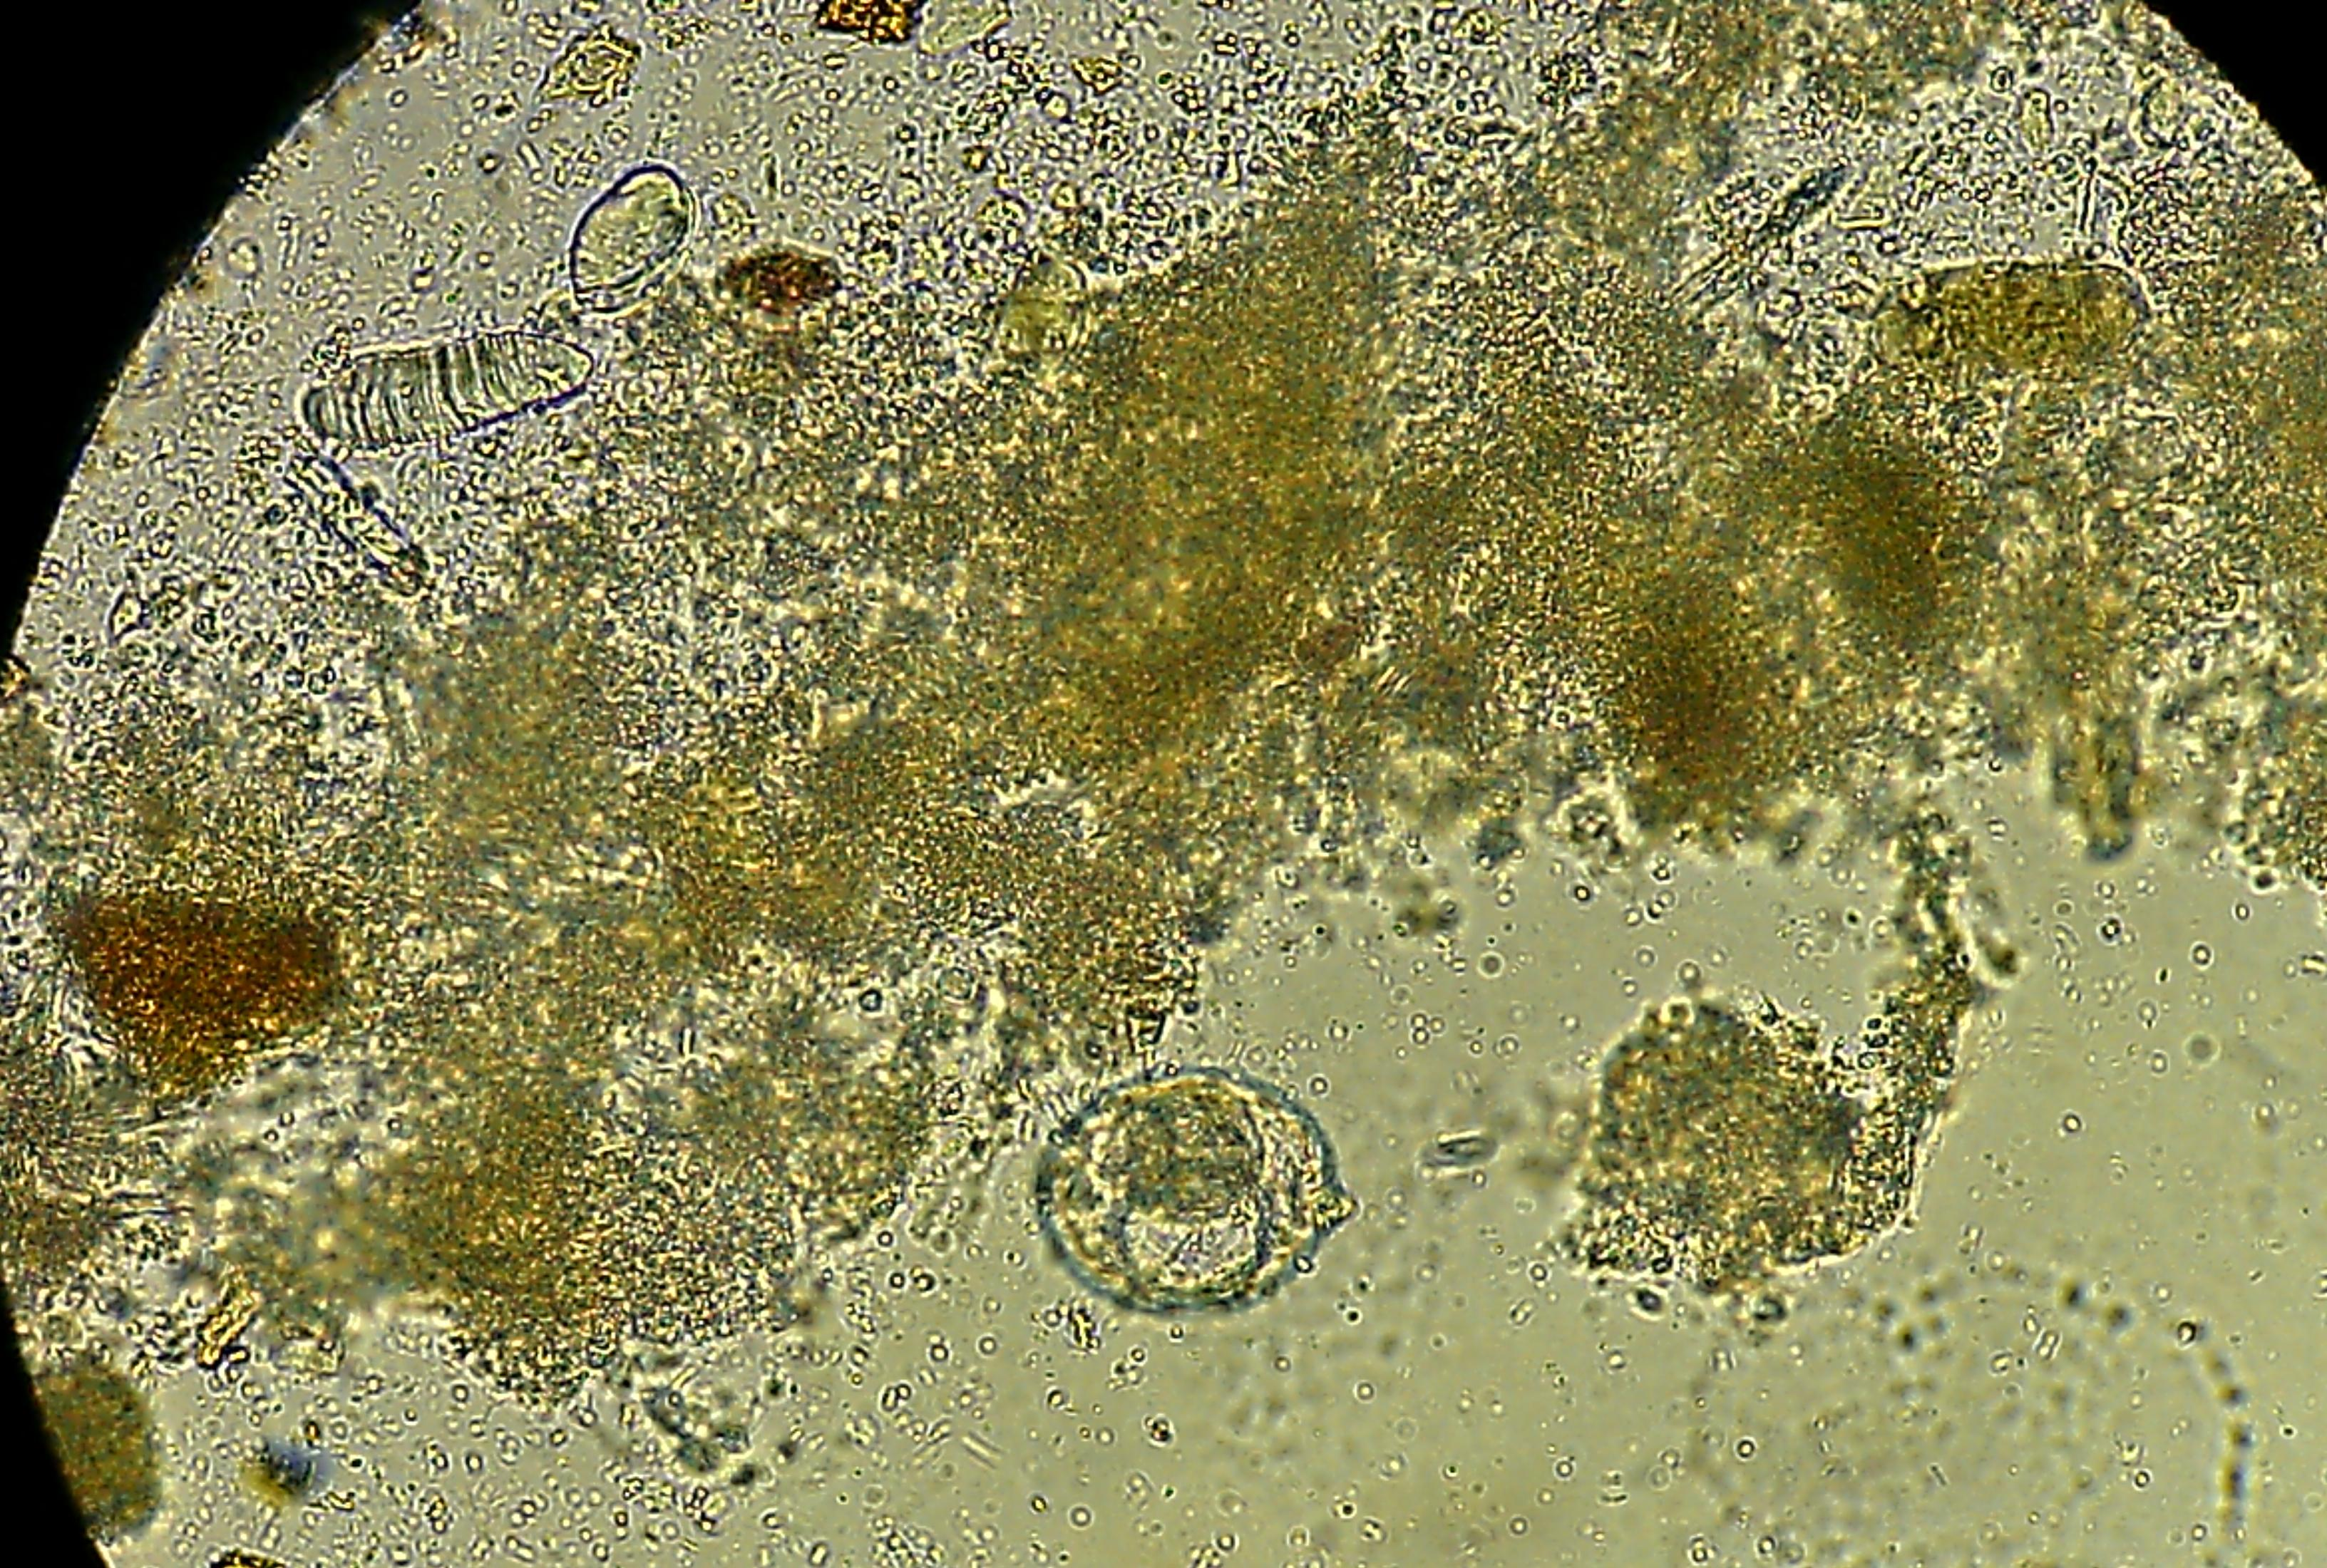Hymenolepis nana: (1024, 1053, 1352, 1337)
